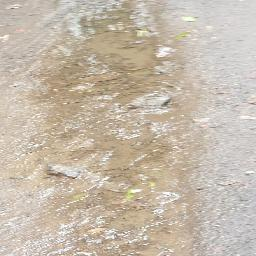water accumulation: (0, 0, 208, 256)
